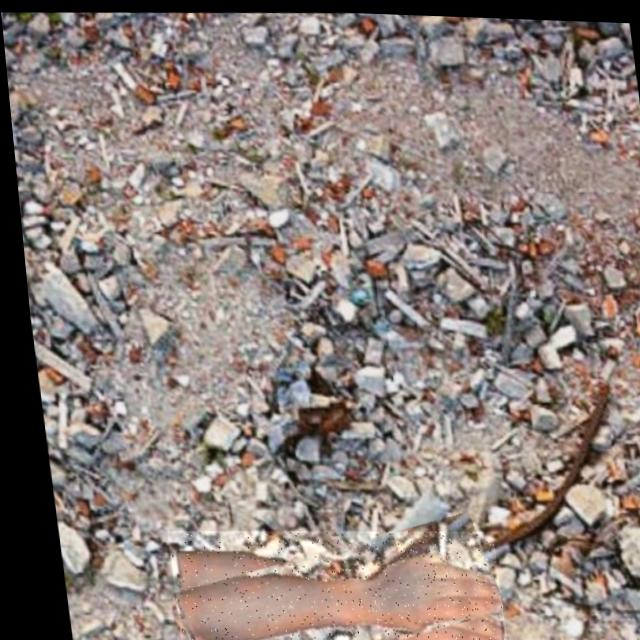Person in Rubble: (155, 517, 495, 640)
